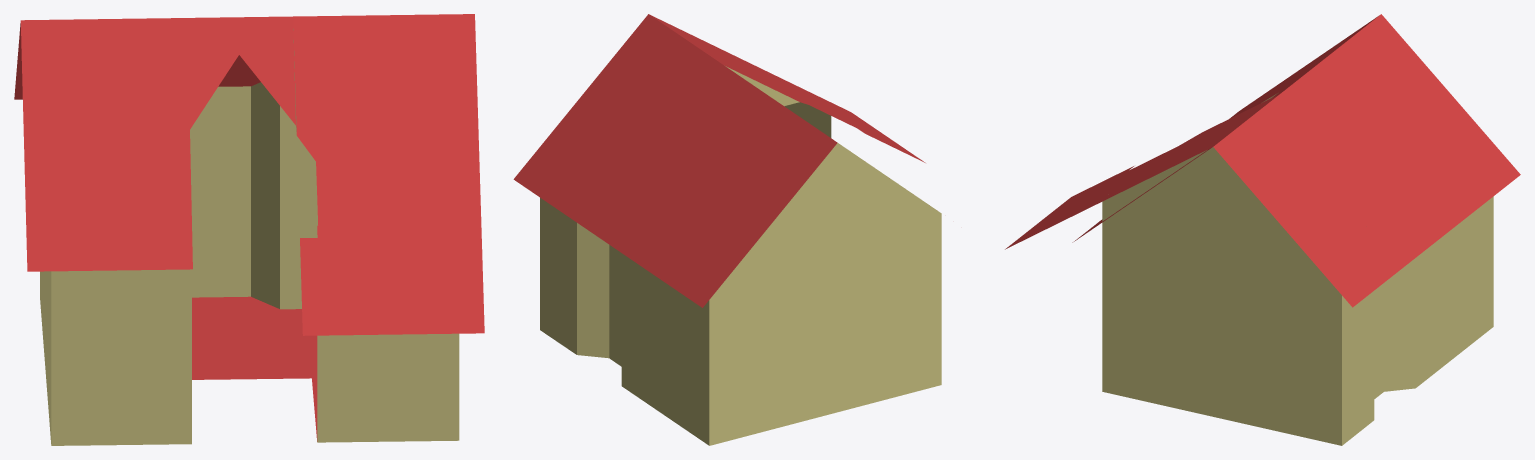
3 renders of one model, left to right at view 1: azimuth 30°, elevation 25°; view 2: azimuth 150°, elevation 25°; view 3: azimuth 270°, elevation 25°, orthographic. The views are drawn at different scales.
Size of the model in its own units: 16.26 by 18.07 by 10.72.
